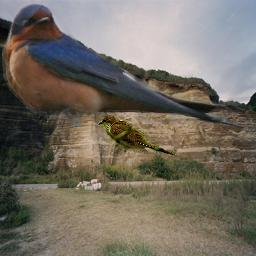Cuckoo: (97, 115, 177, 156)
Swallow: (2, 3, 251, 131)
